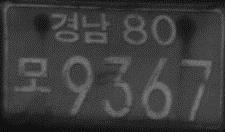0: (152, 14, 178, 48)
3: (100, 54, 133, 120)
6: (140, 55, 176, 121)
7: (177, 57, 214, 123)
8: (121, 13, 148, 46)
9: (61, 53, 94, 118)
경남_O: (49, 11, 111, 44)
모: (11, 55, 53, 95)
